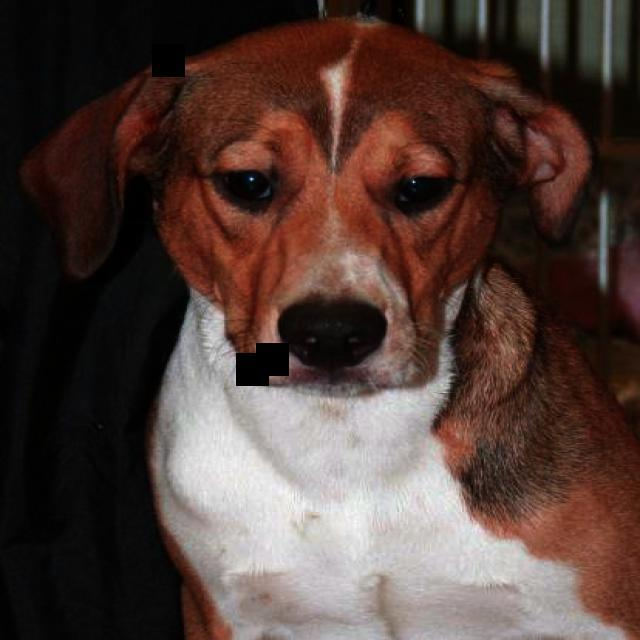adult_dog: (12, 14, 640, 633)
